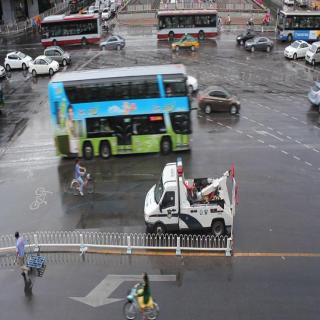Car: (50, 68, 190, 162), (145, 155, 237, 238), (154, 7, 221, 42), (34, 16, 102, 48), (275, 7, 320, 40), (198, 84, 242, 116), (3, 51, 31, 73), (31, 55, 58, 77), (42, 48, 71, 68), (284, 41, 310, 63), (173, 34, 200, 54), (100, 32, 126, 52), (246, 36, 273, 54), (235, 29, 259, 43)
